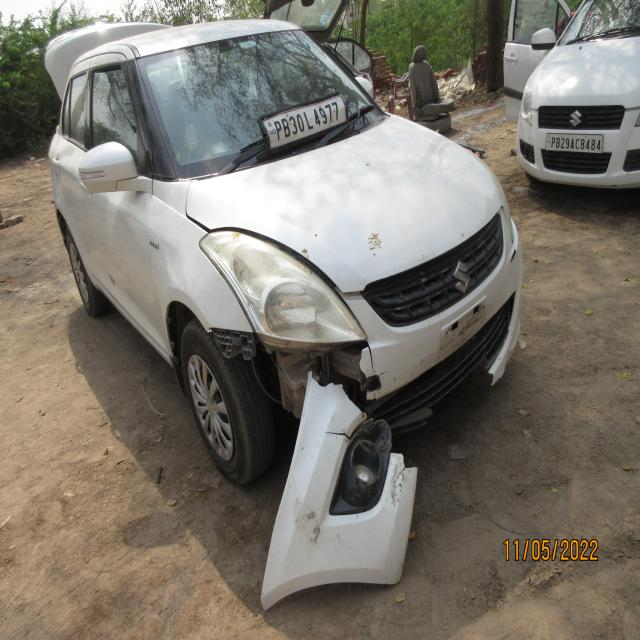damage: (270, 364, 409, 622), (206, 324, 256, 363), (360, 340, 381, 375), (482, 354, 503, 388), (421, 402, 437, 428), (503, 356, 510, 367)
